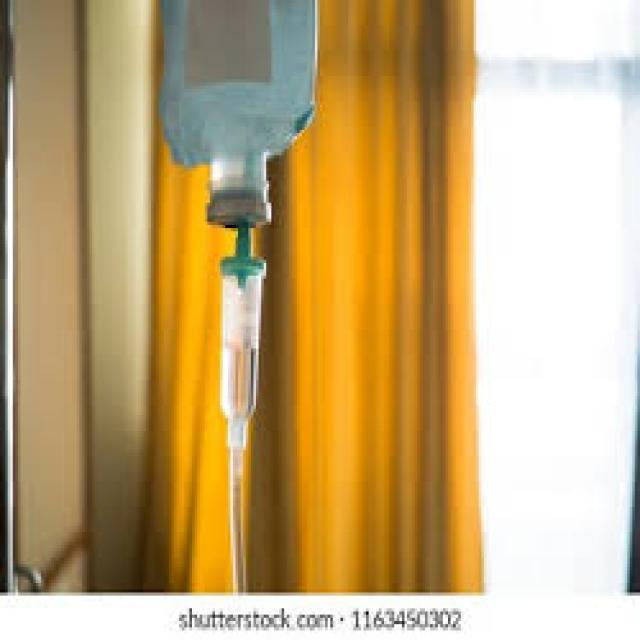iv_fluids: (166, 23, 320, 533)
